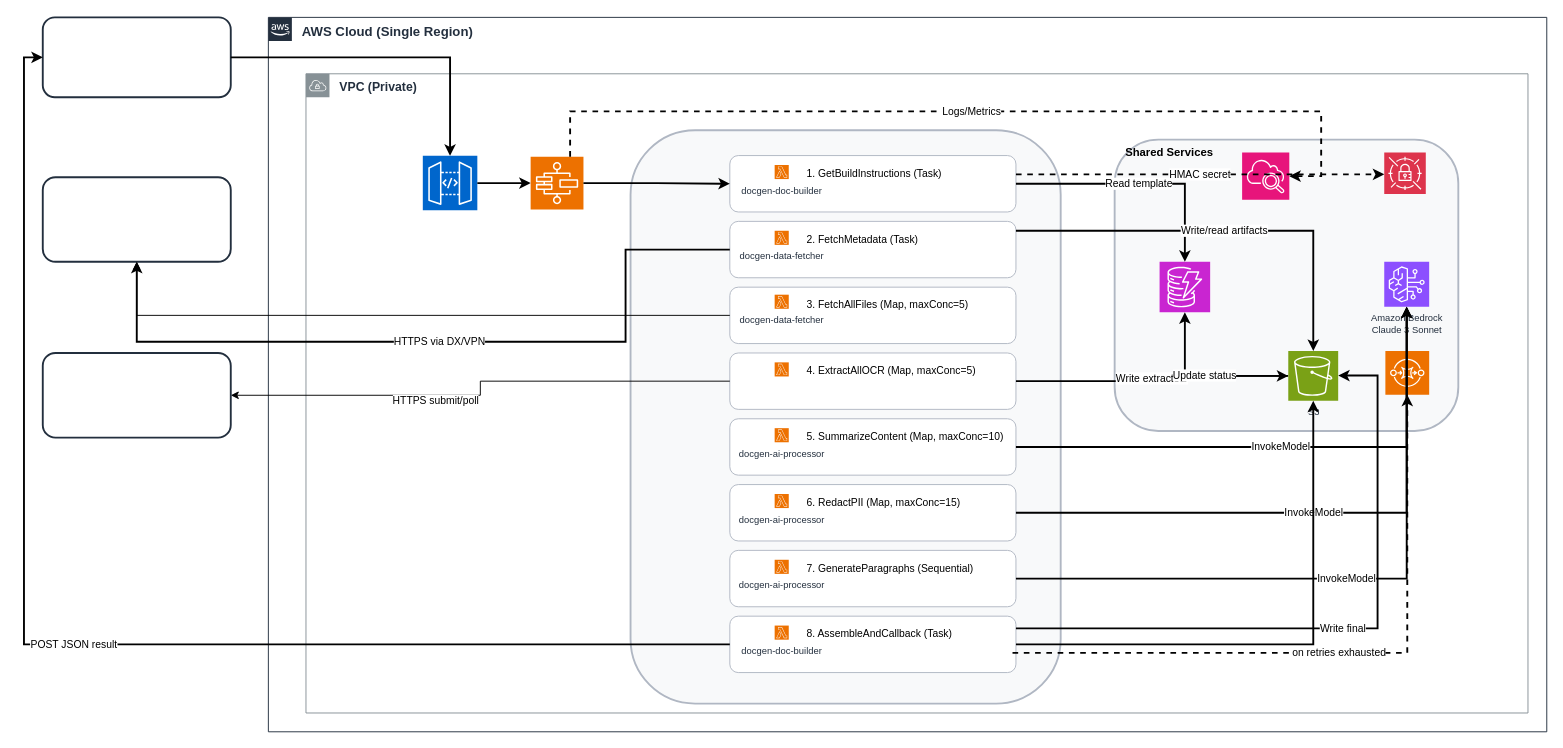
Image size: 1563x748. Some labels were removed from this diagram. The centre of each missing label's shape, as x and y in pixels:
"1. שהם (Trigger)" goes at (x=136, y=57).
"CloudWatch" goes at (x=1265, y=176).
"docgen-ocr-processor" goes at (x=781, y=368).
"DocuPipe API" goes at (x=136, y=395).
"DynamoDB" goes at (x=1184, y=286).
"On-Prem Data API" goes at (x=136, y=219).
"Private API Gateway (POST /documents)" goes at (x=449, y=182).
"Secrets Manager" goes at (x=1404, y=173).
"SQS DLQ" goes at (x=1406, y=372).
"Step Functions (State Machine)" goes at (x=556, y=183).
